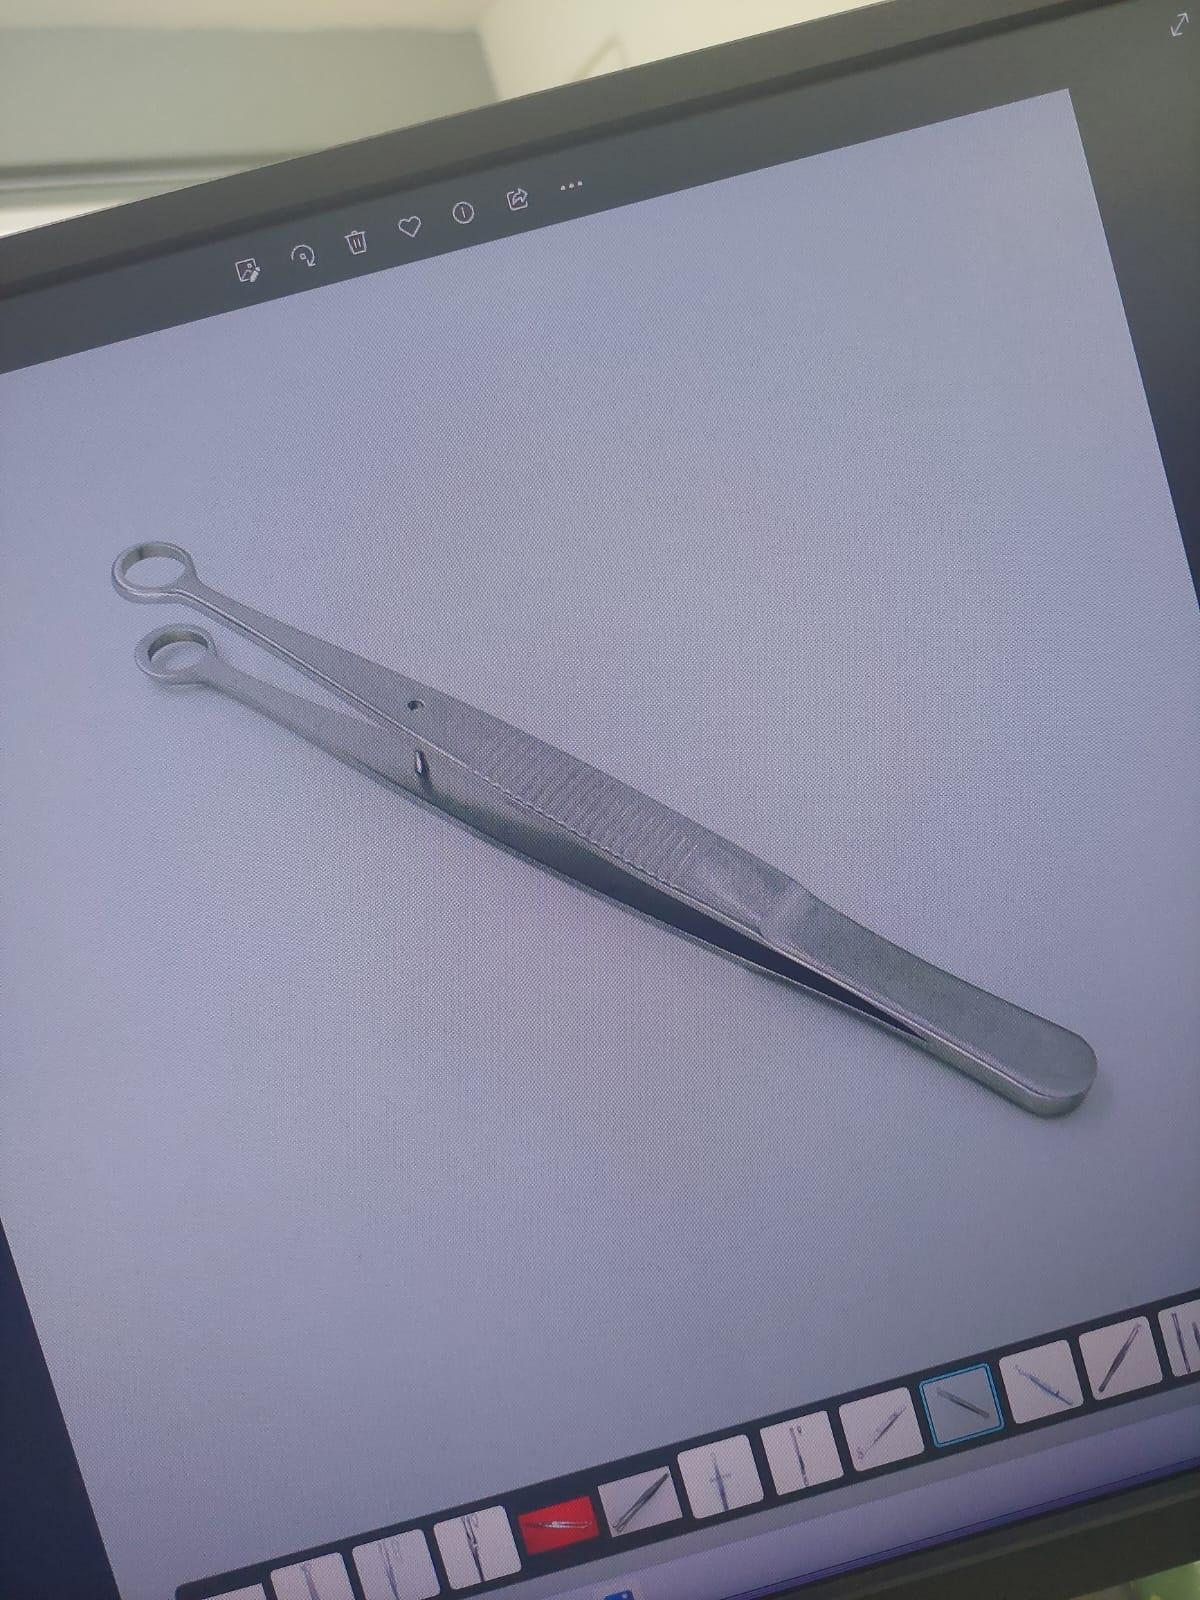Eye Intestinal Forceps: (97, 533, 1123, 1138)
